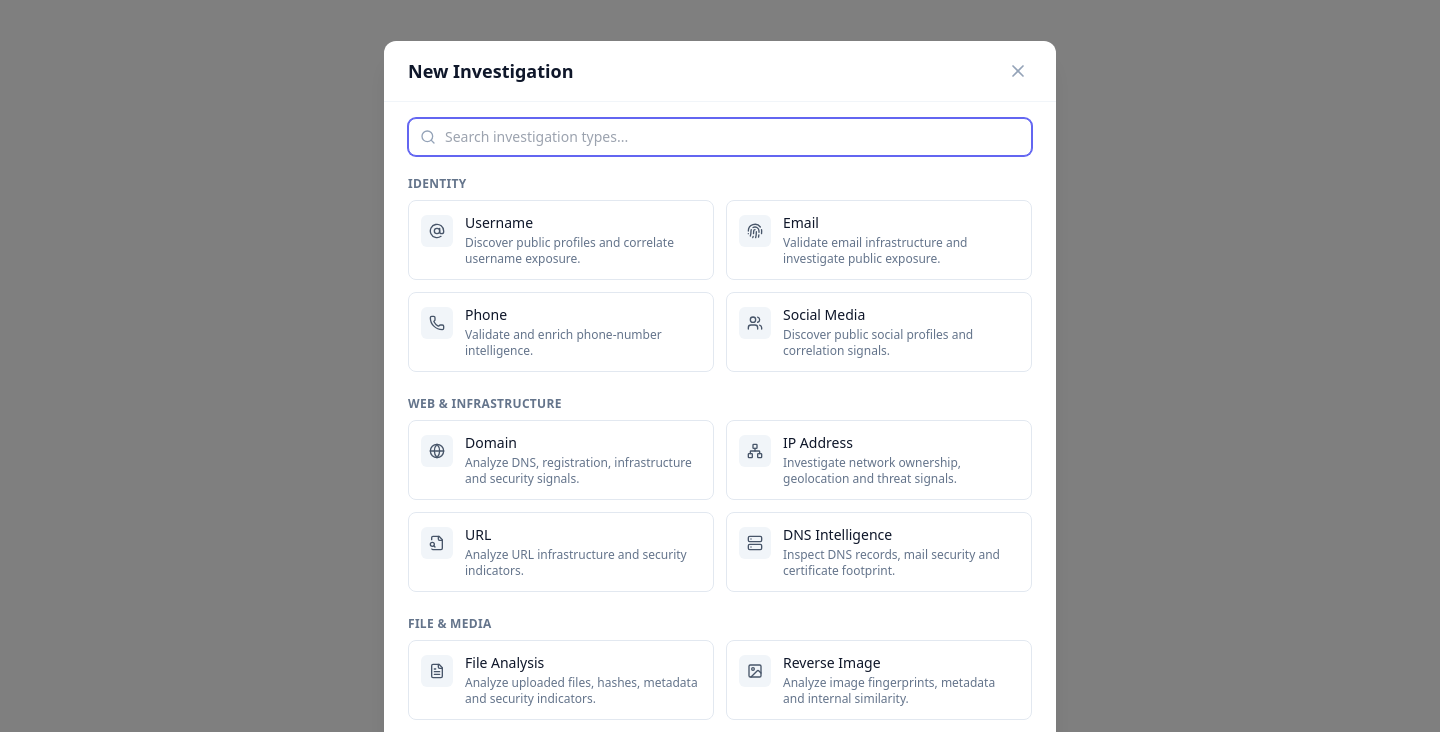
Scenario: NewInvestigationModal › renders an analyst-friendly message instead of a raw API error
Click the button with aria-label "Start a Username investigation": click(561, 240) [408,200,714,280]
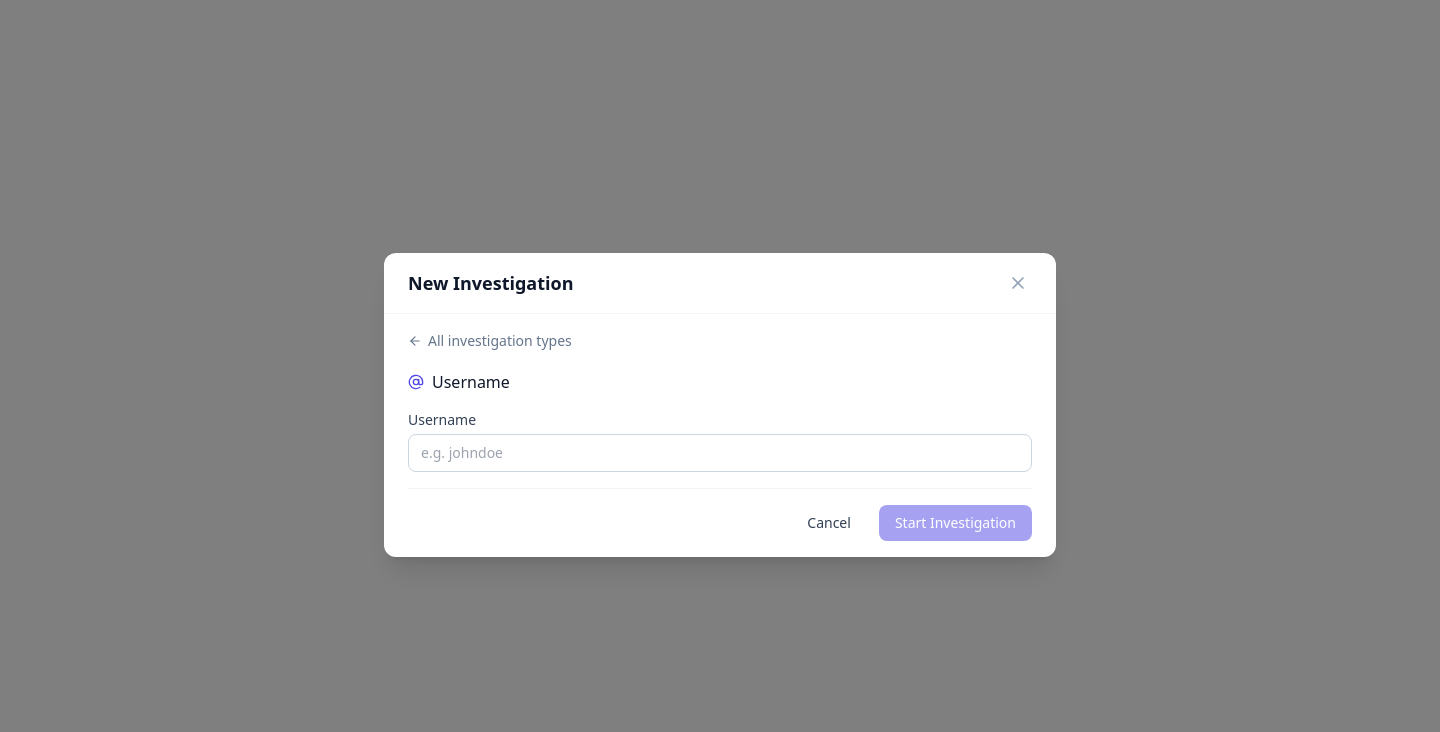
In the field labelled "Username": (720, 453) [408,434,1032,472], type "johndoe"
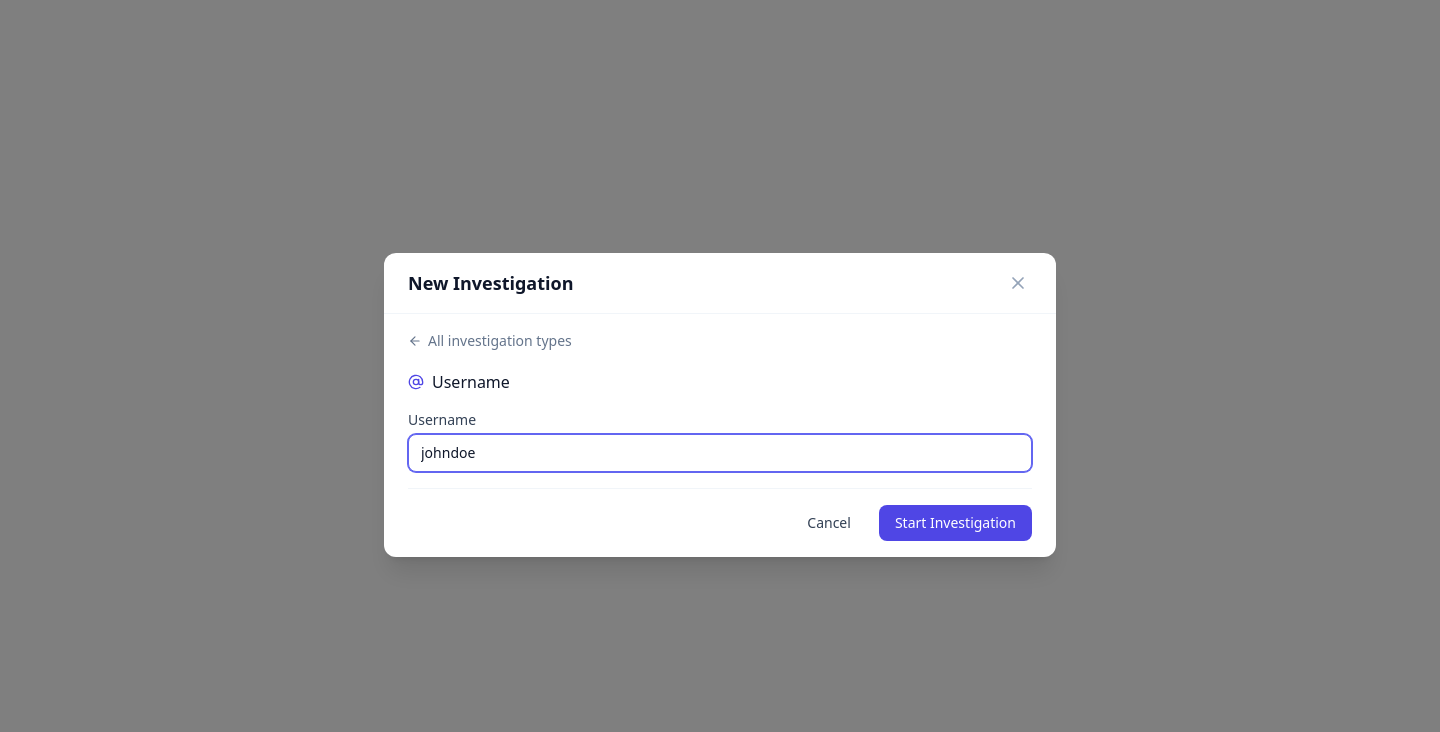
Click the button "Start Investigation": click(955, 523) [879,505,1032,541]
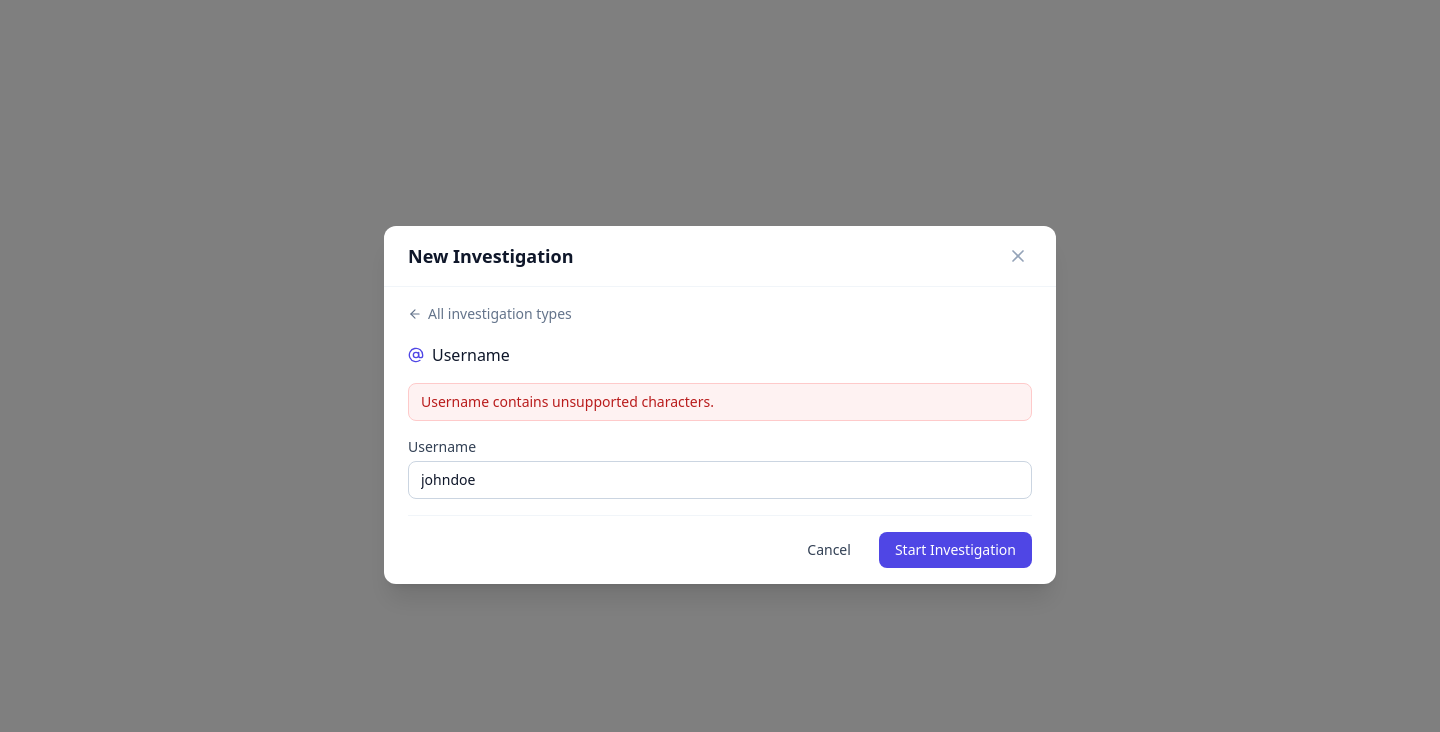
Check: the text "Username contains unsupported characters." is shown, box [408,383,1032,421]
